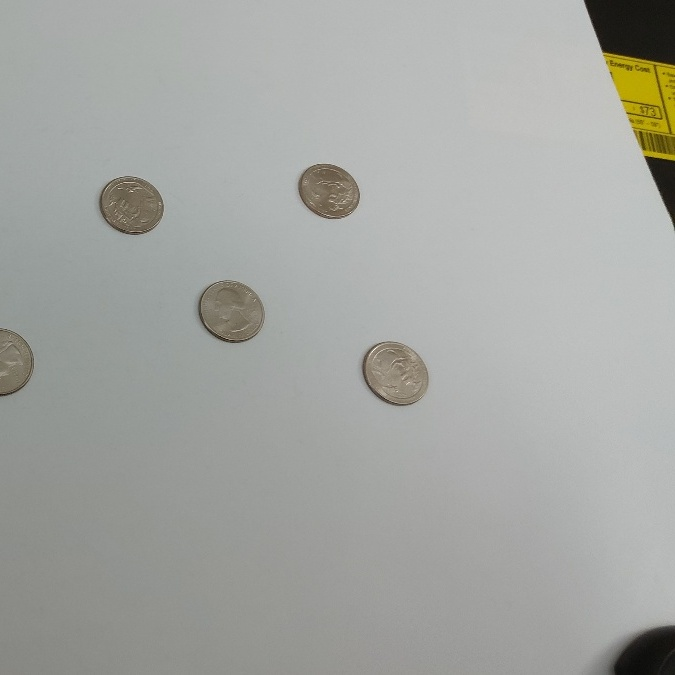coin_quarter: (361, 337, 432, 410), (96, 170, 167, 236), (195, 277, 266, 343), (294, 158, 365, 223)
